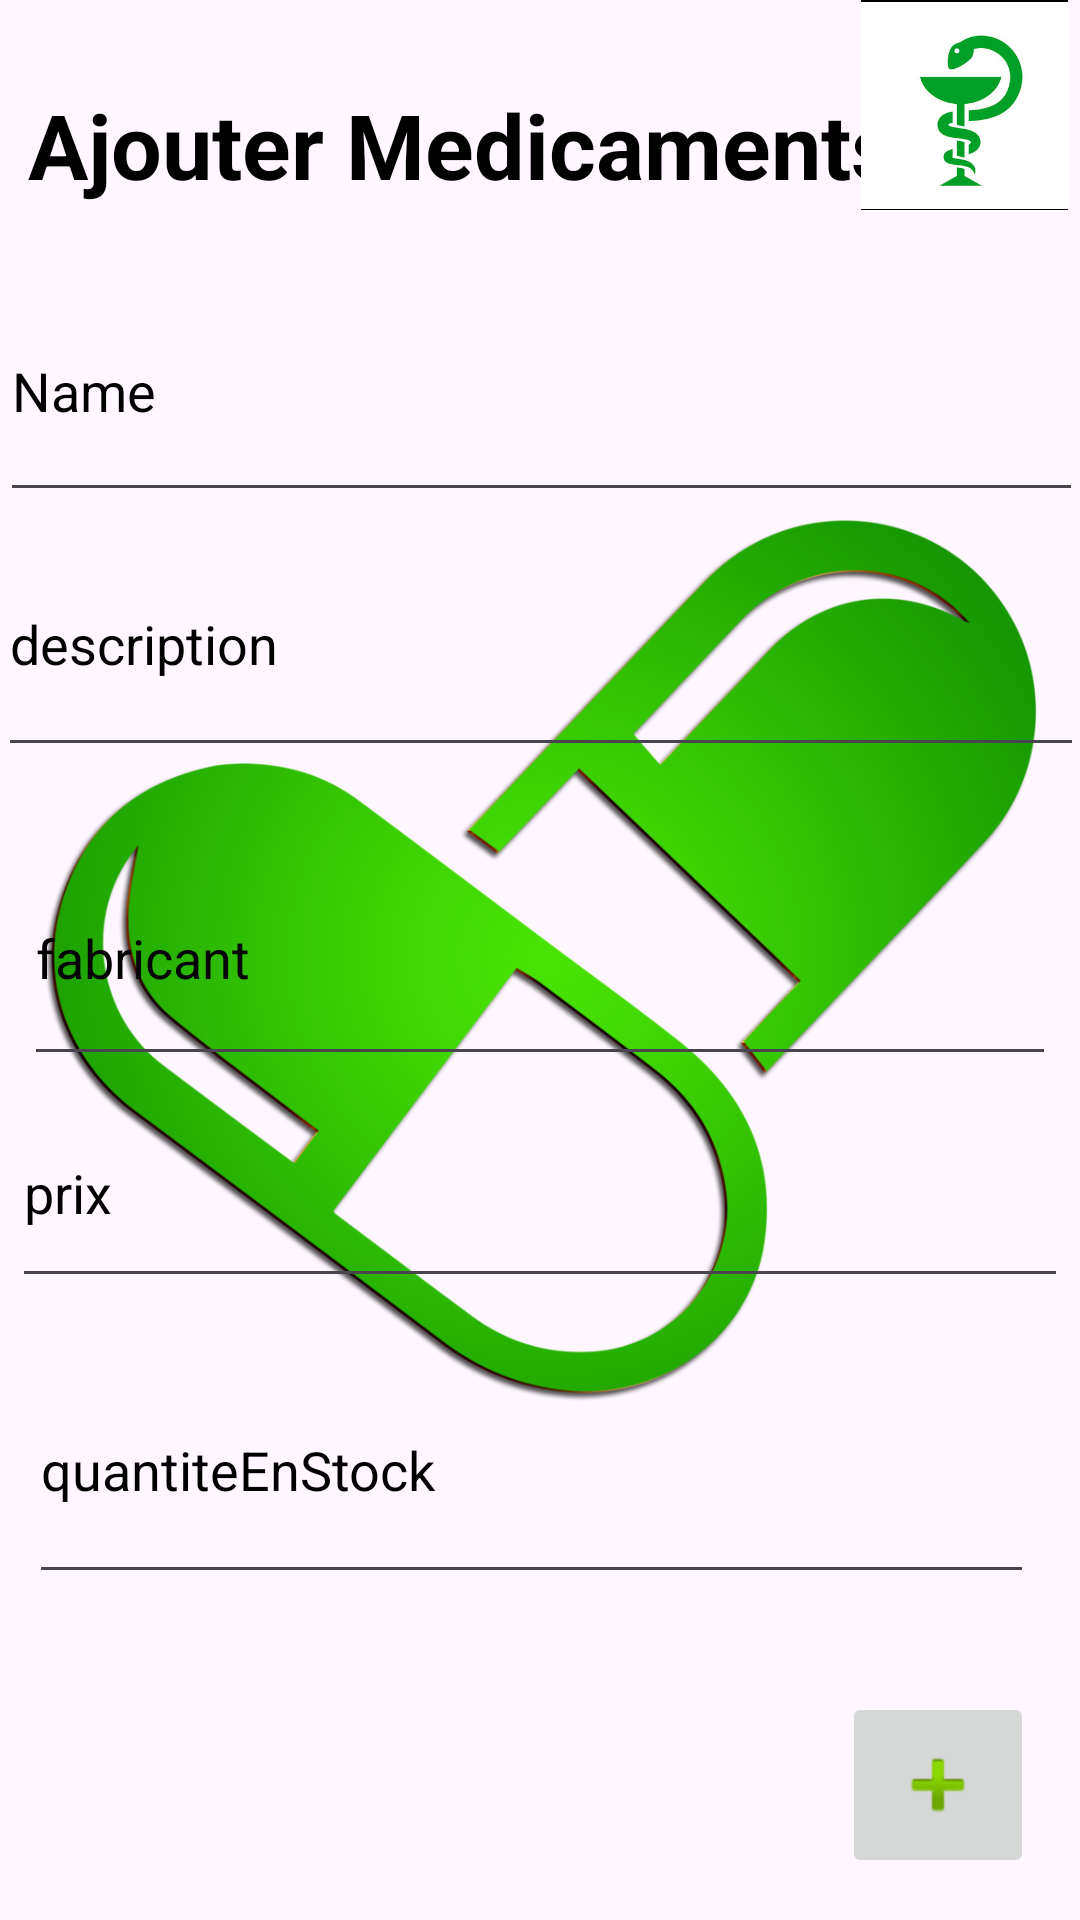

Point at icon controls on the screen. Image size 1080w x 1920h, points as (x=x, y=y).
add: (x=938, y=1785)
